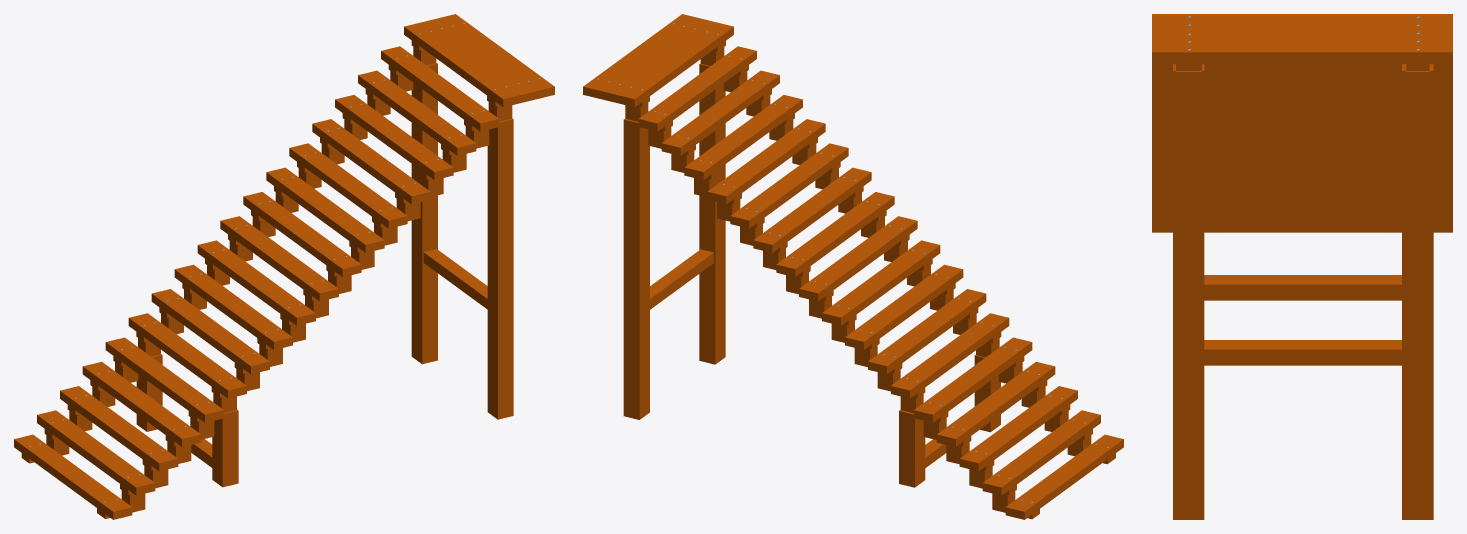
The model's file is WideStair.fbx.
3 renders of one model, left to right at view 1: azimuth 30°, elevation 25°; view 2: azimuth 150°, elevation 25°; view 3: azimuth 270°, elevation 25°, orthographic. The views are drawn at different scales.
Parts seen in each view (by area): view 1: WideStair_LOD0; view 2: WideStair_LOD0; view 3: WideStair_LOD0.
Part boxes in pixels (box(x1,y1,x2,y2)): WideStair_LOD0: box(14, 14, 554, 519); WideStair_LOD0: box(583, 14, 1123, 519); WideStair_LOD0: box(1152, 14, 1452, 519).
Size of what is drawn, in the model's own units: 1706 by 1221 by 664.
